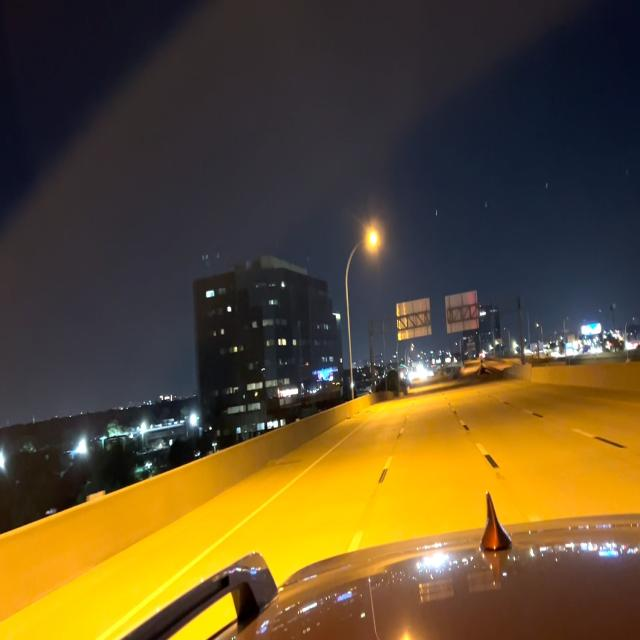back-of-sign: (445, 288, 481, 336), (397, 297, 432, 342)
